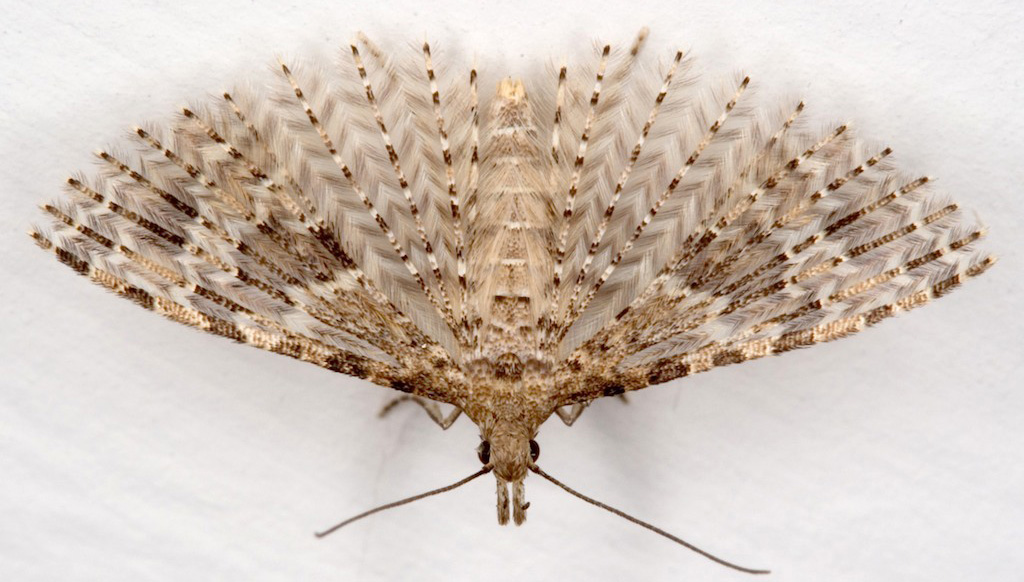Alucitidae: (23, 10, 1002, 580)
moth: (25, 12, 1004, 582)
